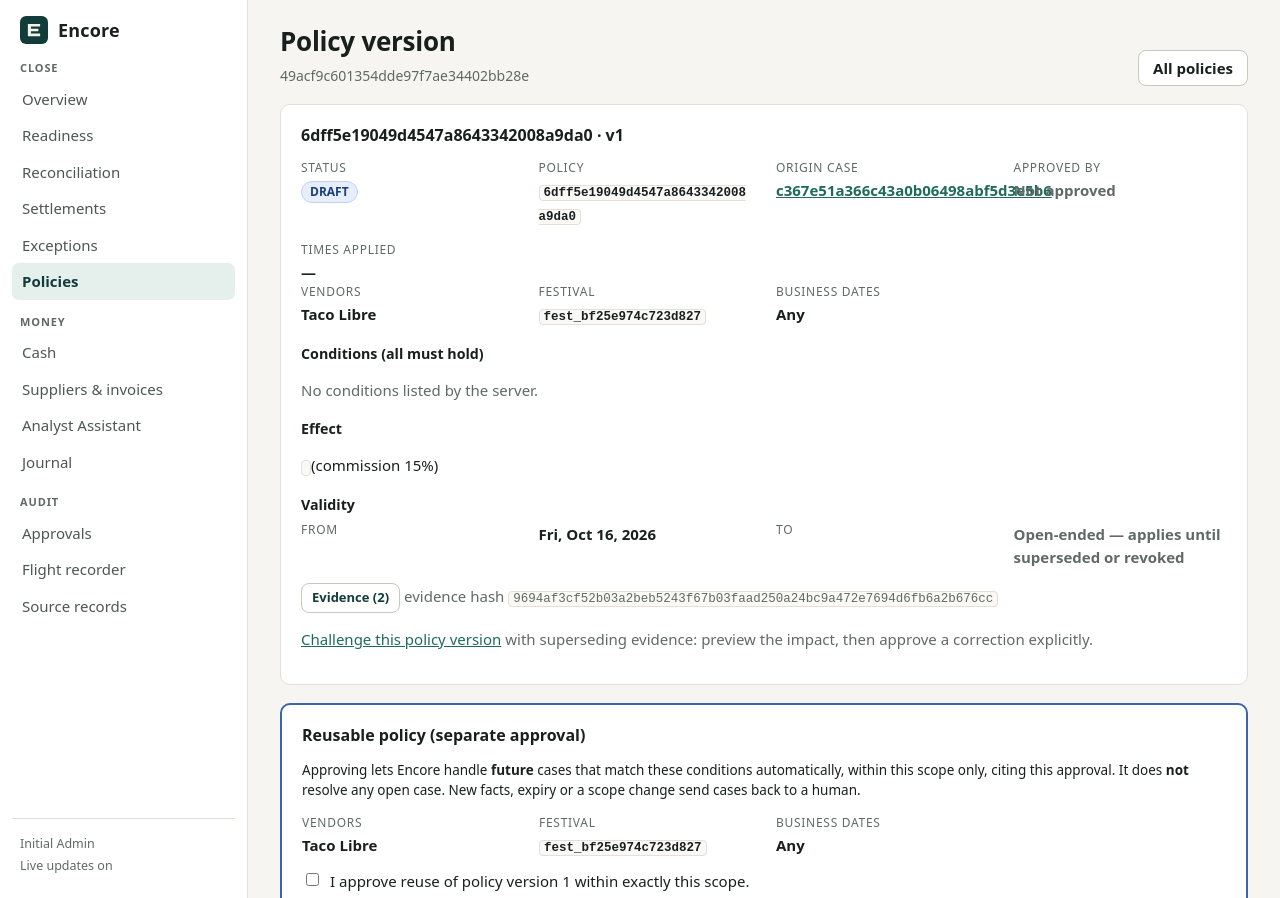
it: policy approval against the live response shape › offers the approval on a version waiting for a human, bound to what the server sent
What coordinates should you click on to do the following:
click the checkbox labelled "I approve reuse of policy version 1 within exactly this scope"
I would click on:
 (312, 879)
Its box is [306, 873, 319, 886].
(page scrolled)
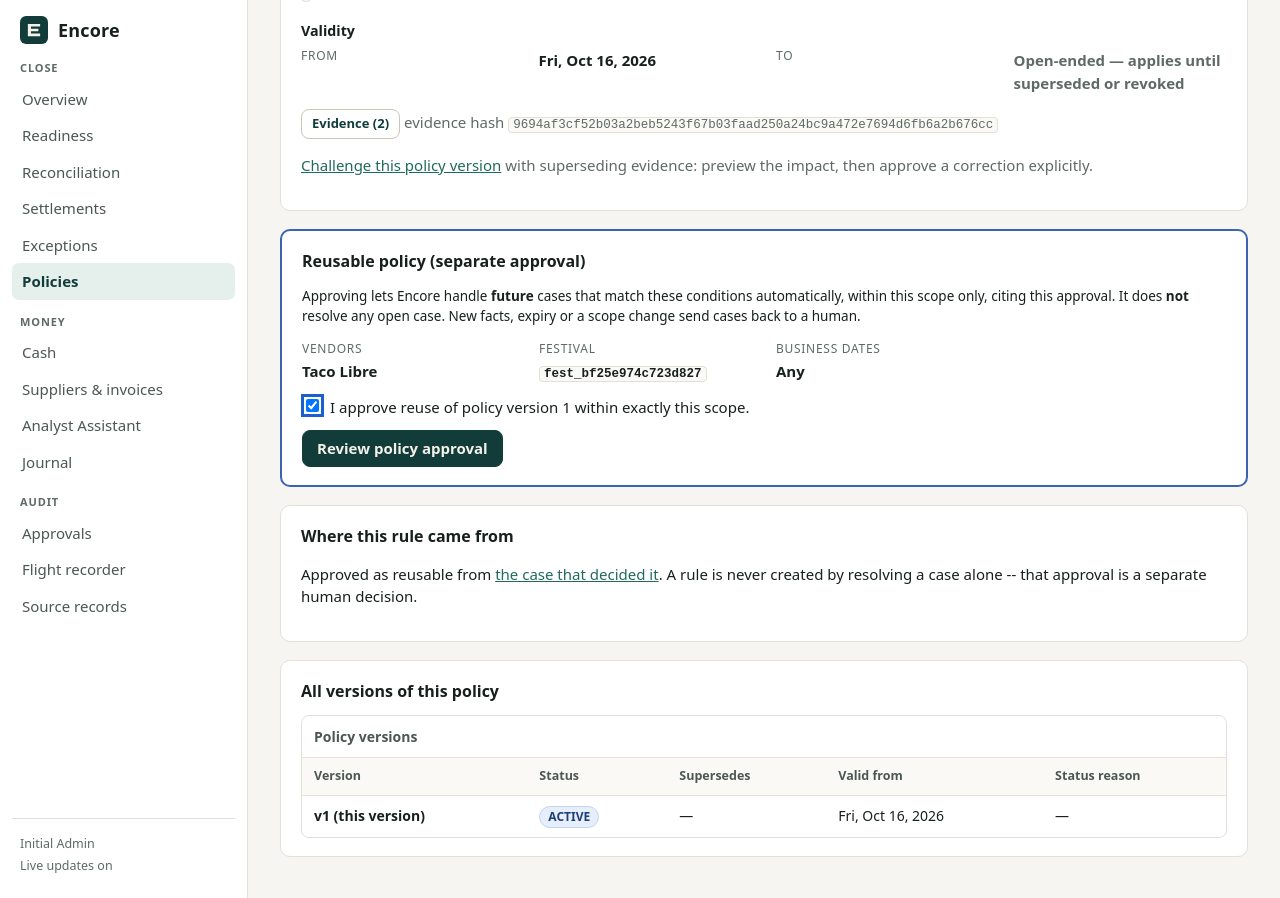
What coordinates should you click on to do the following:
click the button "Review policy approval"
I would click on:
 (402, 449)
Its box is [302, 430, 503, 467].
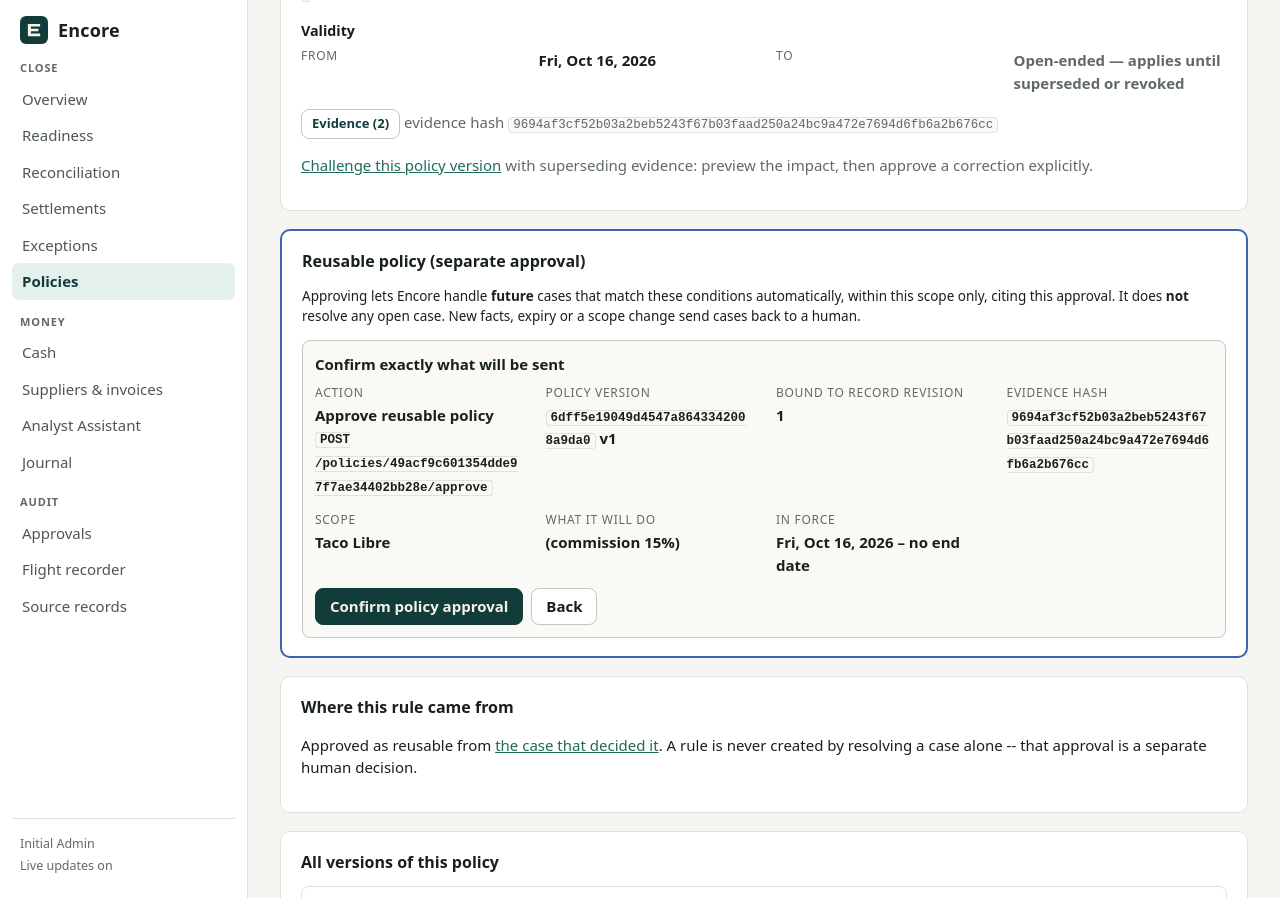
Result: the element named "Review policy approval" shows "9694af3cf52b03a2beb5243f67b03faad250a24bc9a472e7694d6fb6a2b676cc" at [1006, 411, 1209, 472]
What coordinates should you click on to do the following:
click the button "Confirm policy approval"
I would click on:
 (419, 607)
Its box is [315, 588, 523, 625].
(page scrolled)
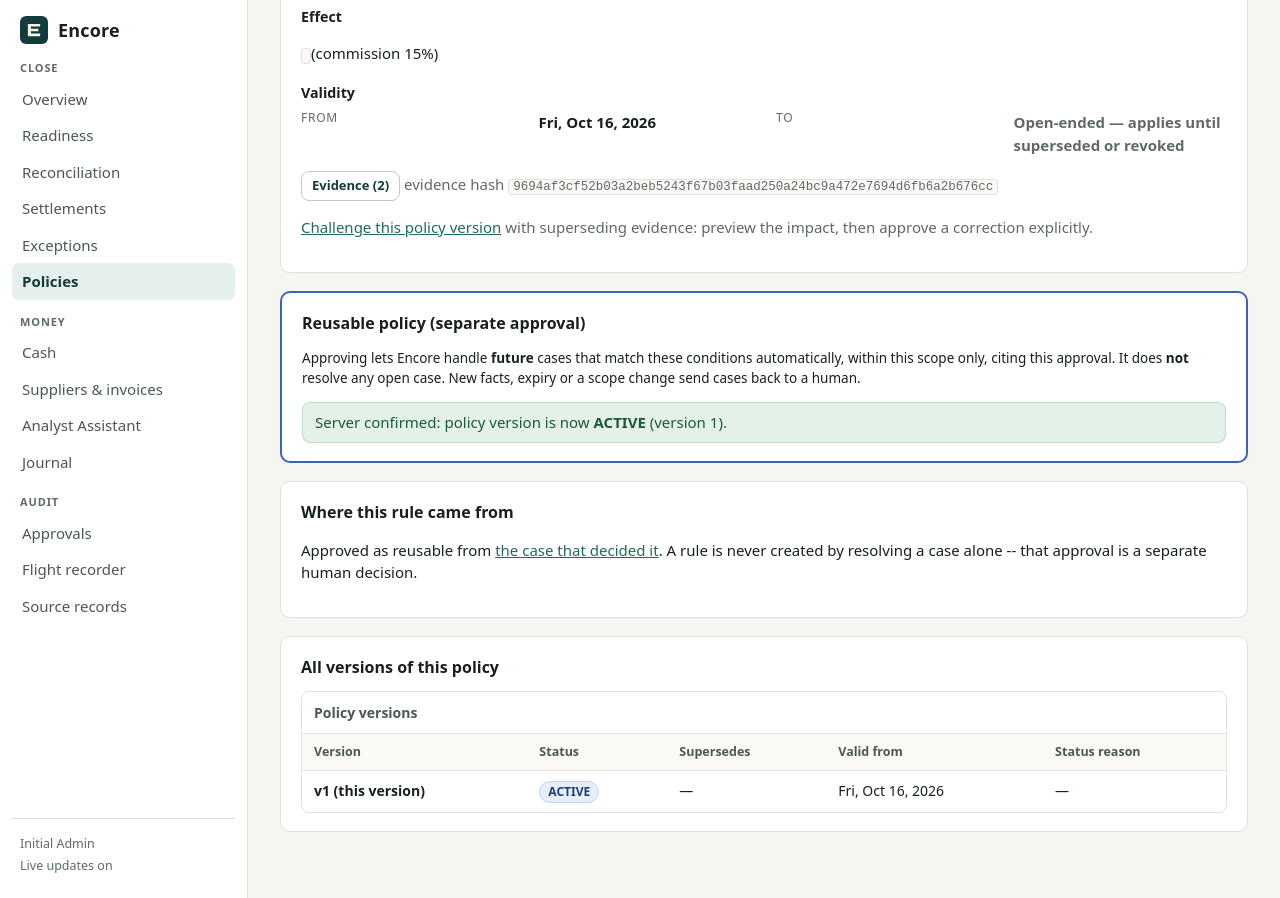
Result: the text "Server confirmed: policy version is now ACTIVE (version 1)." is shown at [302, 402, 1226, 443]
